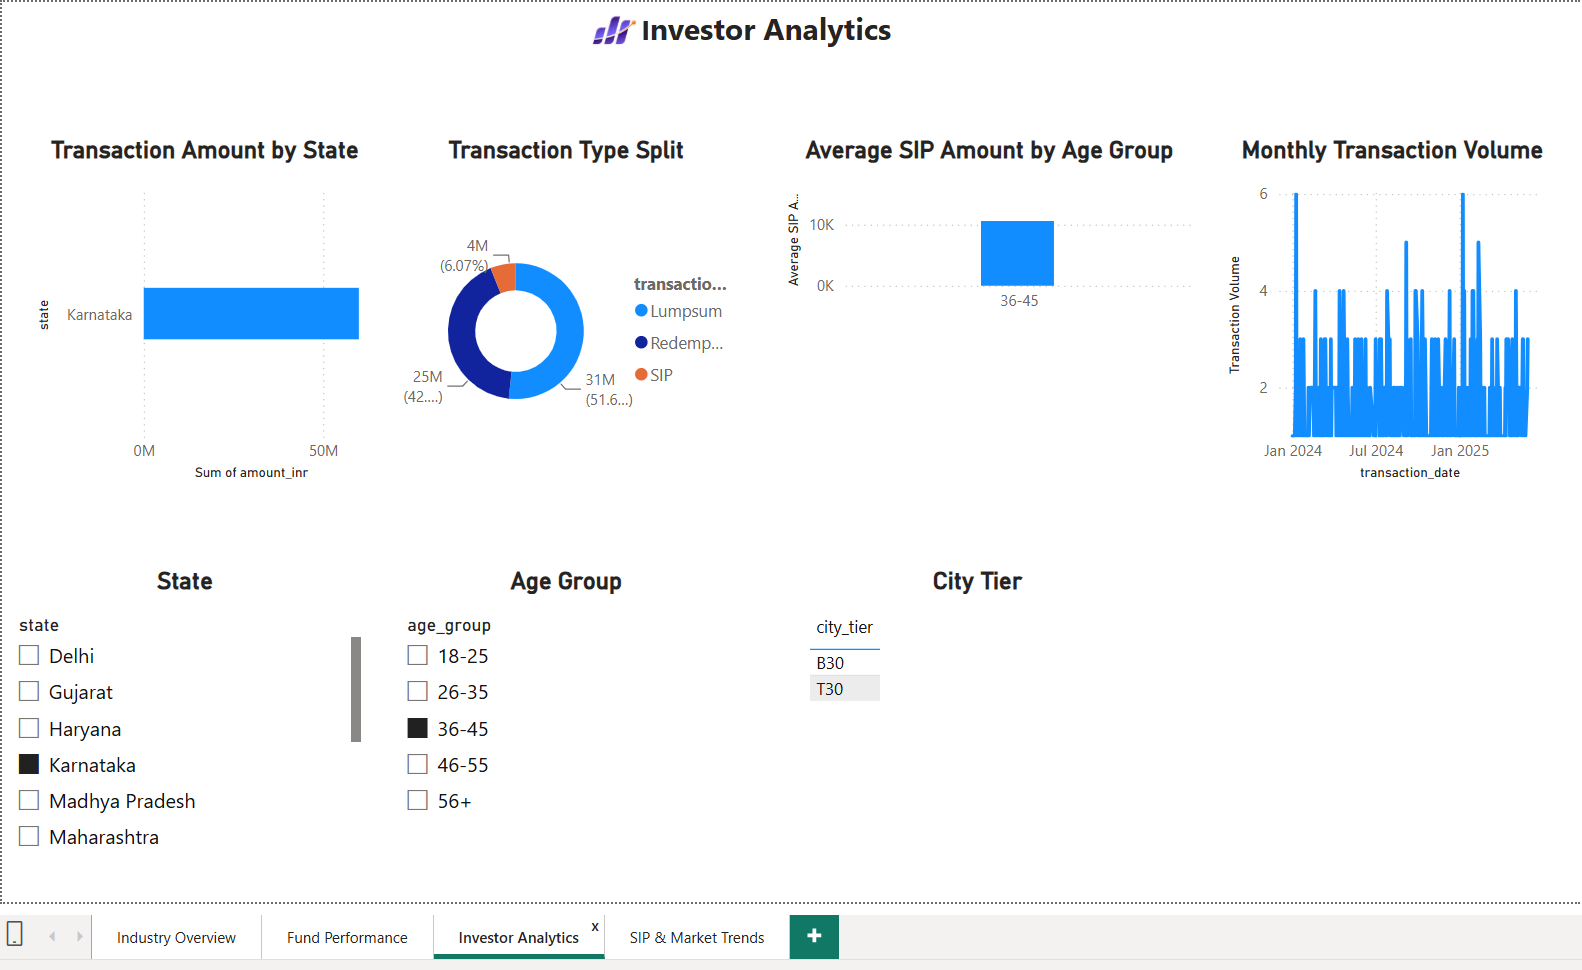

What the dashboard file says about the page in this screenshot:
{"tool":"powerbi","page":{"name":"Investor Analytics","canvas":[1280,720],"ordinal":2},"visuals":[{"type":"clusteredBarChart","title":"Transaction Amount by State","fields":{"Category":["investor_transactions.state"],"Y":["Sum(investor_transactions.amount_inr)"]},"box":[22.3,106.6,280,280],"z":0},{"type":"donutChart","title":"Transaction Type Split","fields":{"Category":["investor_transactions.transaction_type"],"Y":["Sum(investor_transactions.amount_inr)"]},"box":[311.1,106.6,280,280],"z":1000},{"type":"clusteredColumnChart","title":"Average SIP Amount by Age Group","fields":{"Category":["investor_transactions.age_group"],"Y":["DateTable.Average SIP Amount"]},"box":[622.2,106.6,334.6,150],"z":2000},{"type":"lineChart","title":"Monthly Transaction Volume","fields":{"Category":["investor_transactions.transaction_date"],"Y":["DateTable.Transaction Volume"]},"box":[975.4,106.6,273.9,280.1],"z":3000},{"type":"slicer","title":"State","fields":{"Values":["investor_transactions.state"]},"box":[0,452,292,233],"z":4000},{"type":"slicer","title":"Age Group","fields":{"Values":["investor_transactions.age_group"]},"box":[311,452,280,233],"z":5000},{"type":"tableEx","title":"City Tier","fields":{"Values":["investor_transactions.city_tier"]},"box":[639.5,452.4,280.1,127.7],"z":6000},{"type":"textbox","box":[505.7,0,323.5,69.4],"z":7000},{"type":"image","box":[451.1,0,76.8,45.9],"z":7001}]}

Visuals, with their boxes on the page's 1280x720 design canvas (x1, y1, x2, y2). These are canvas units, not pixel positions in the 1582x970 screenshot, which may show the page scaled, cropped or inside an application window:
"Transaction Amount by State" clusteredBarChart: l=22, t=107, r=302, b=387
"Transaction Type Split" donutChart: l=311, t=107, r=591, b=387
"Average SIP Amount by Age Group" clusteredColumnChart: l=622, t=107, r=957, b=257
"Monthly Transaction Volume" lineChart: l=975, t=107, r=1249, b=387
"State" slicer: l=0, t=452, r=292, b=685
"Age Group" slicer: l=311, t=452, r=591, b=685
"City Tier" tableEx: l=640, t=452, r=920, b=580
textbox: l=506, t=0, r=829, b=69
image: l=451, t=0, r=528, b=46
